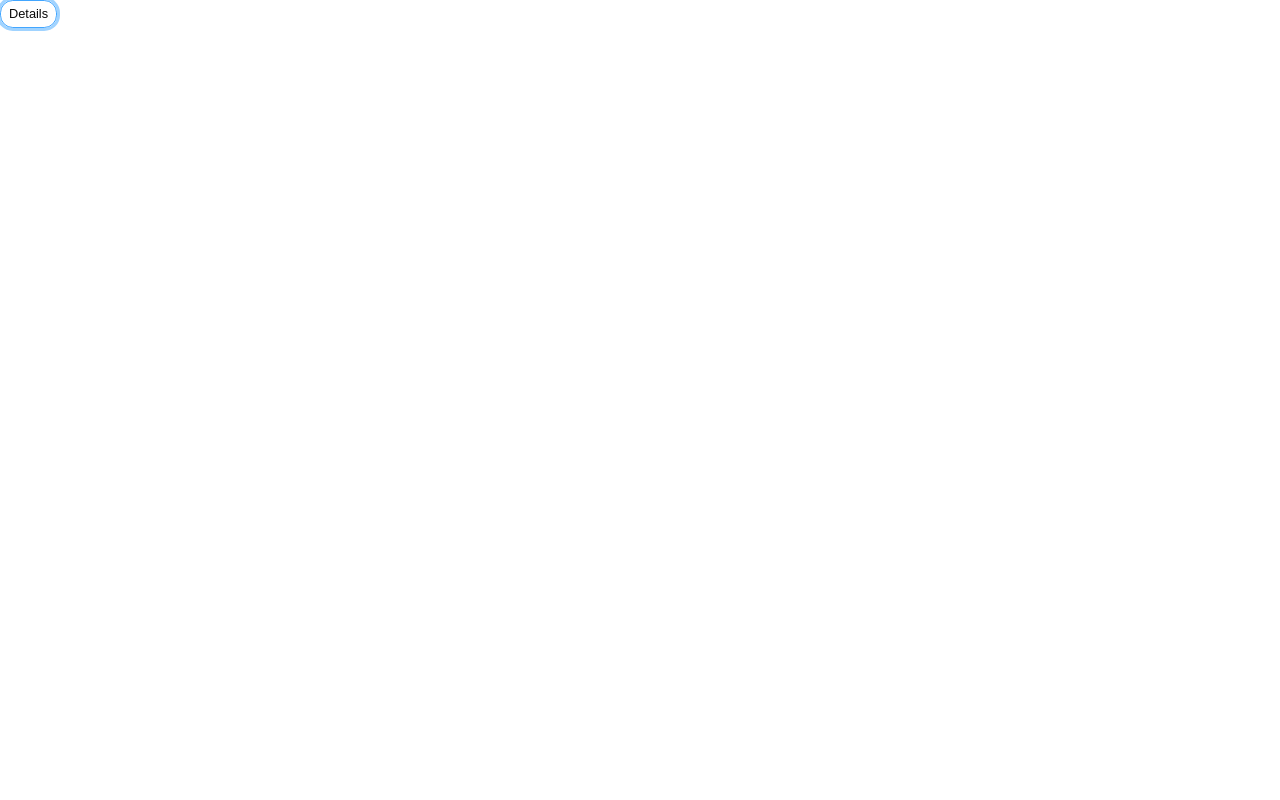
Test: shows long values in full, copies the complete identifier, and restores focus when dismissed
The image size is (1280, 800).
Press Enter
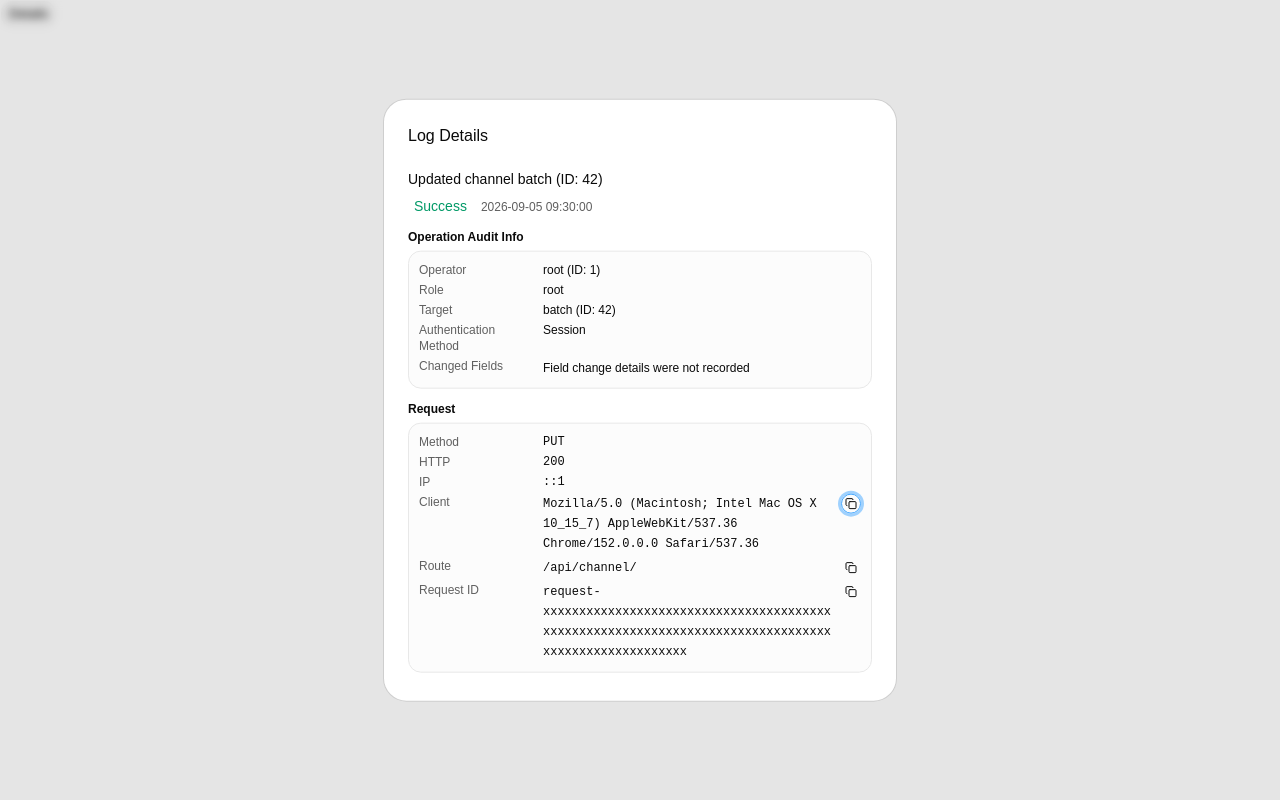
Click the button named "Copy Request ID" at (851, 591), box [841,581,861,601]
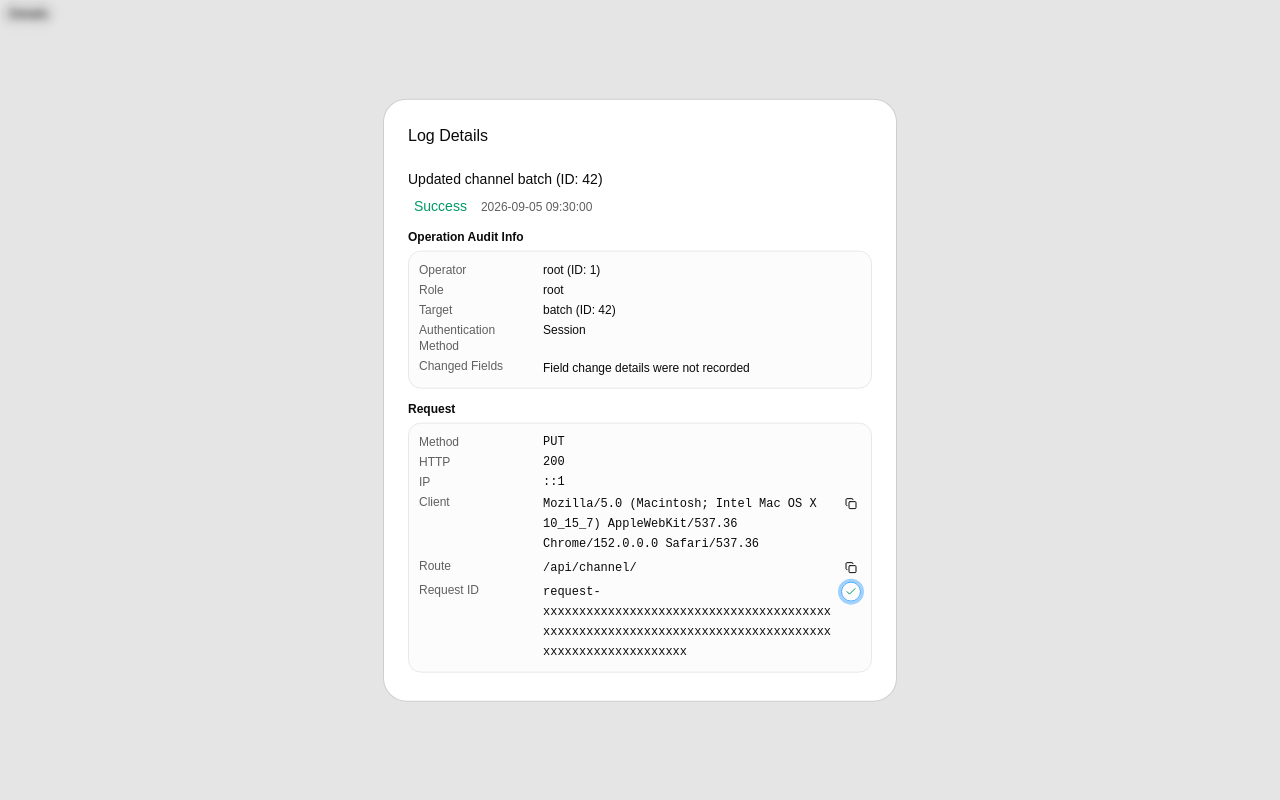
Expected: the text "Mozilla/5.0 (Macintosh; Intel Mac OS X 10_15_7) AppleWebKit/537.36 Chrome/152.0.0.0 Safari/537.36" is shown, [543,496,824,550]
Press Escape
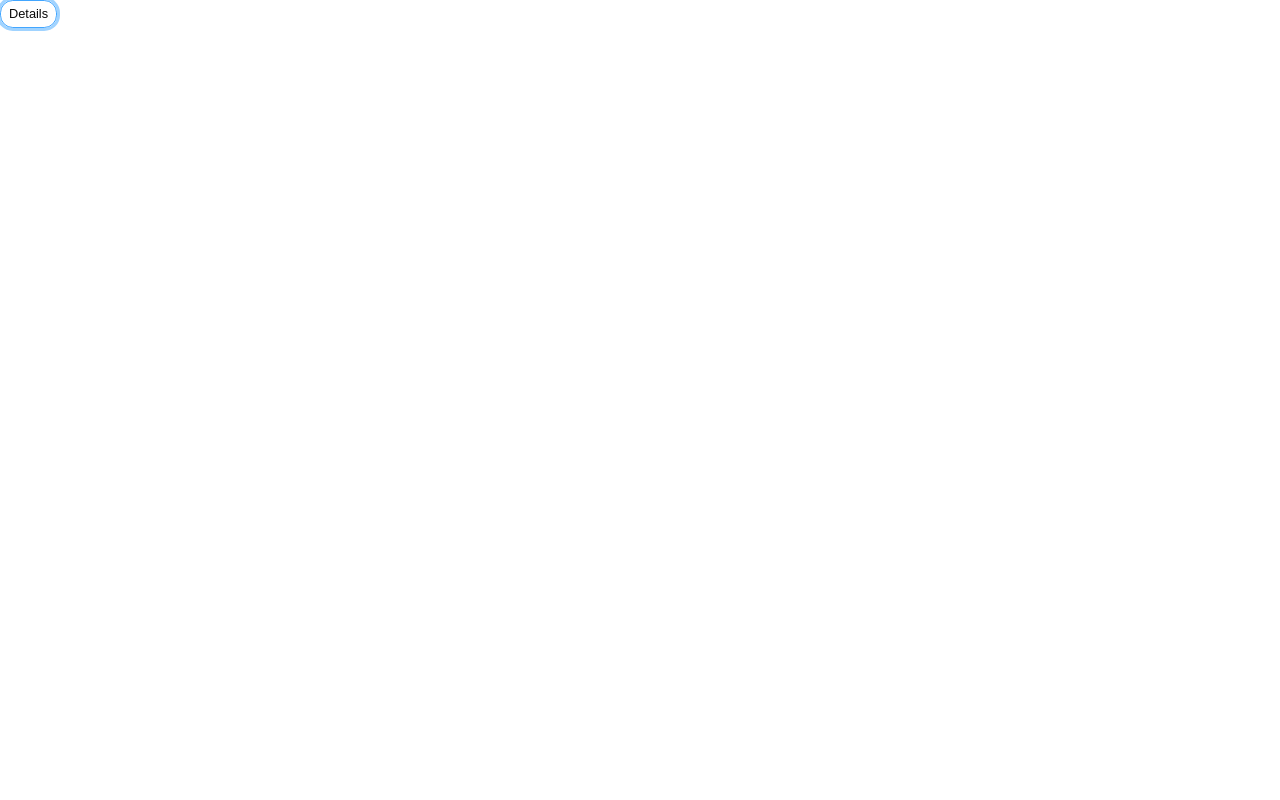
Expected: the dialog is gone
